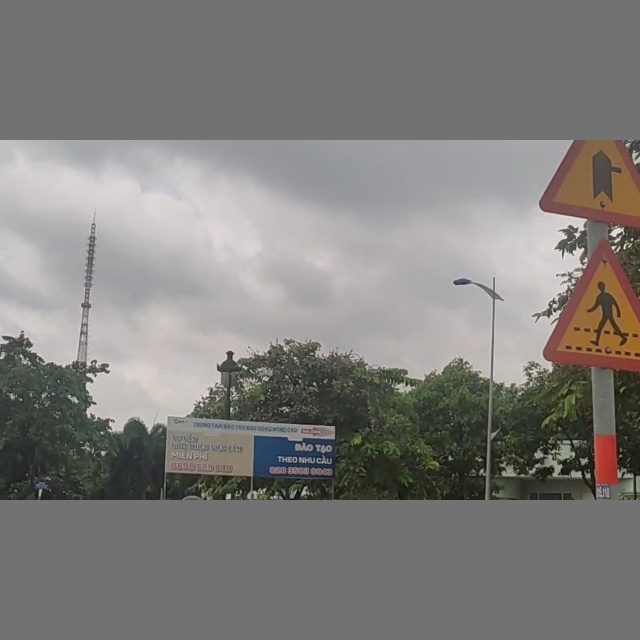W.207: (538, 143, 639, 226)
W.224: (545, 243, 640, 372)
